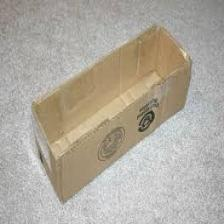cardboard: (22, 21, 196, 202)
